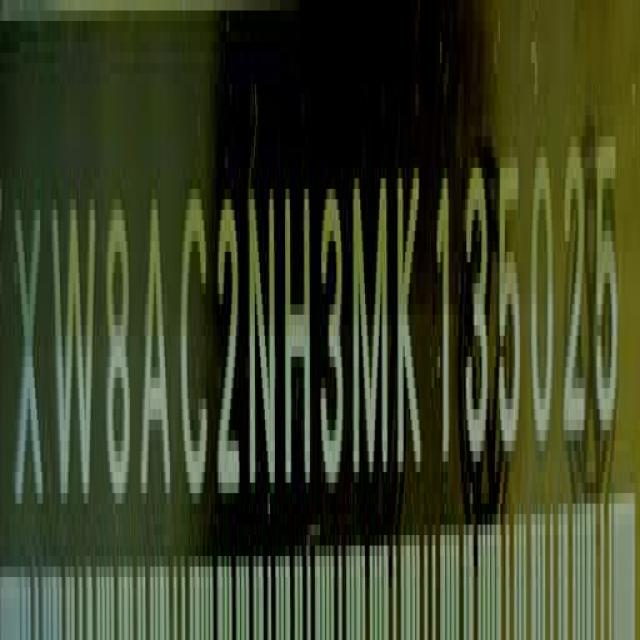0: (529, 146, 557, 460)
1: (434, 155, 456, 483)
2: (216, 188, 243, 512), (565, 132, 590, 451)
3: (464, 148, 489, 471), (321, 181, 345, 499)
5: (596, 122, 623, 444), (498, 144, 524, 464)
8: (106, 191, 132, 514)
A: (142, 186, 173, 513)
C: (180, 192, 212, 513)
H: (286, 178, 314, 504)
K: (395, 148, 425, 497)
M: (351, 175, 390, 486)
N: (250, 181, 279, 508)
W: (52, 187, 97, 521)
X: (14, 190, 46, 520)
